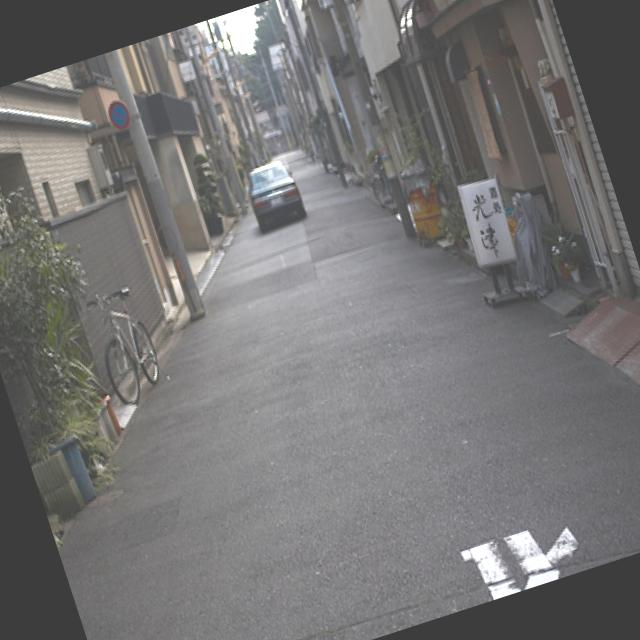Vehicle: (242, 156, 308, 234)
